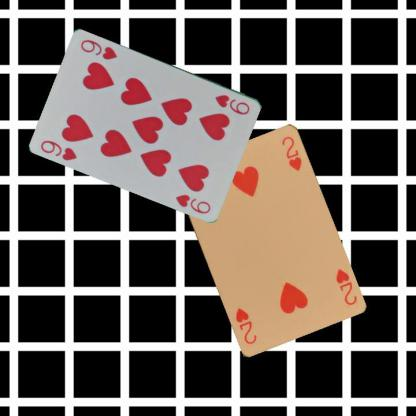2h: (332, 266, 358, 306)
9h: (38, 137, 79, 162), (213, 92, 251, 116)
